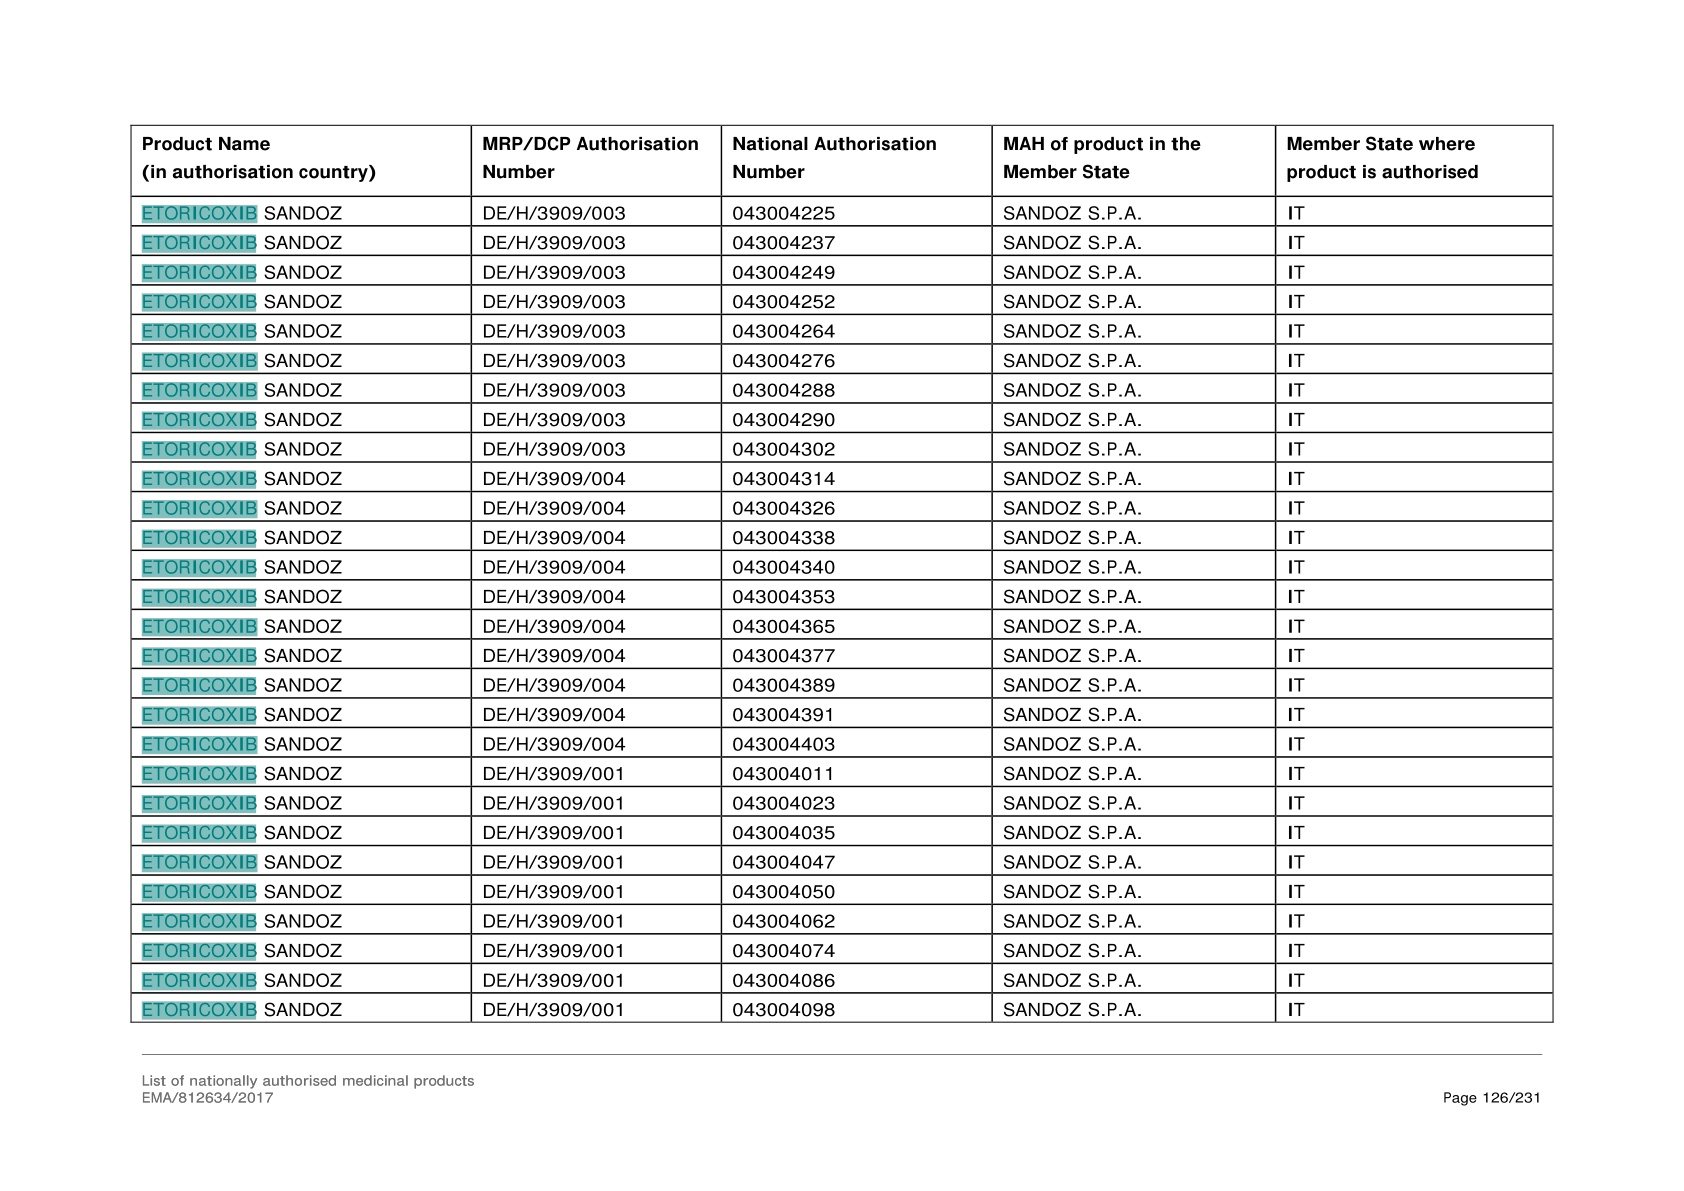full_lined: (129, 122, 1554, 1023)
